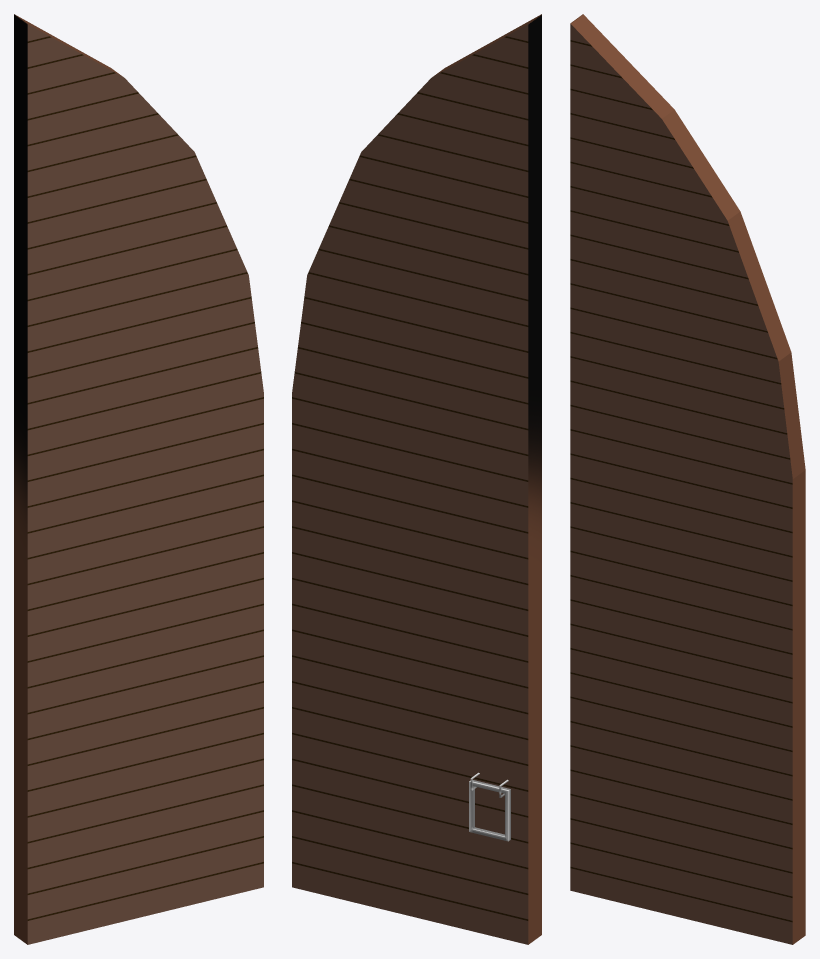
The model's file is DoorLeft.fbx.
The picture shows the model from 3 angles, left to right: view 1: azimuth 30°, elevation 25°; view 2: azimuth 150°, elevation 25°; view 3: azimuth 330°, elevation 25°; orthographic projection. The views are drawn at different scales.
Parts seen in each view (by area): view 1: DoorLeft; view 2: DoorLeft; view 3: DoorLeft.
Boxes of the visible parts, x1,y1,x2,y2 form: DoorLeft: (14,14,263,944); DoorLeft: (292,14,541,944); DoorLeft: (570,14,805,944).
Bounding box in the file's own units: 2.5 × 9.31 × 0.395.
1 material, 1 textured.
